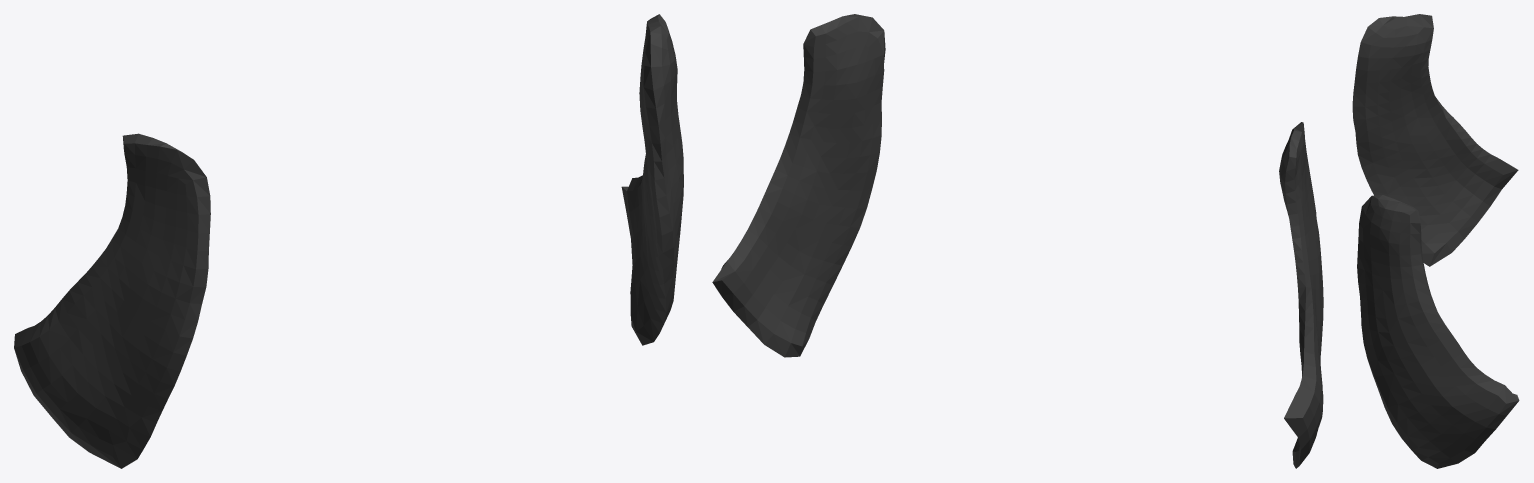
Rendered from PIP_coll.glb.
The picture shows the model from 3 angles, left to right: view 1: azimuth 30°, elevation 25°; view 2: azimuth 150°, elevation 25°; view 3: azimuth 270°, elevation 25°; orthographic projection. The views are drawn at different scales.
Parts seen in each view (by area): view 1: PIP_coll; view 2: PIP_coll; view 3: PIP_coll.
Part boxes in pixels (x1,y1,x2,y2): PIP_coll: (14, 14, 683, 468); PIP_coll: (712, 14, 1323, 468); PIP_coll: (1352, 14, 1519, 468).
Bounding box in the file's own units: 2.02 × 1.07 × 0.6109.
Materials: 1 (1 with a texture image).
